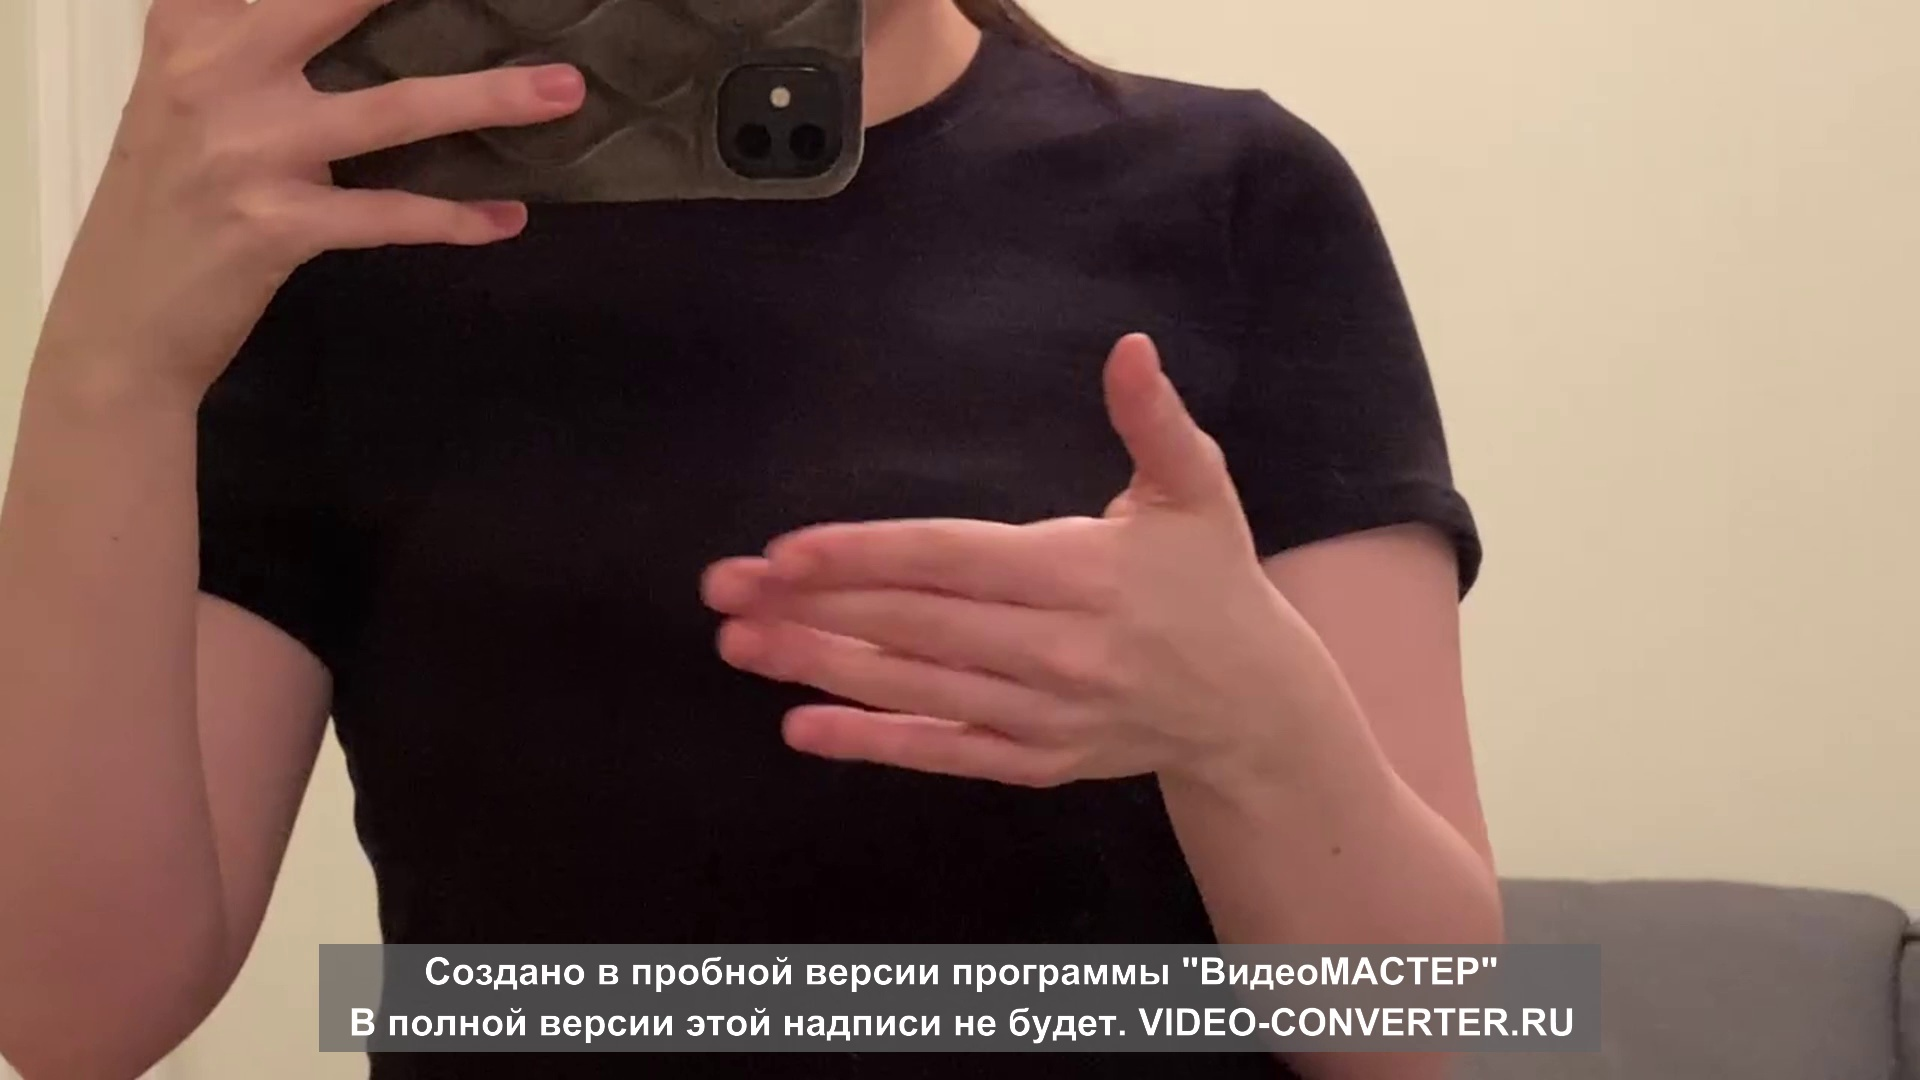Кисть: (698, 335, 1251, 789)
